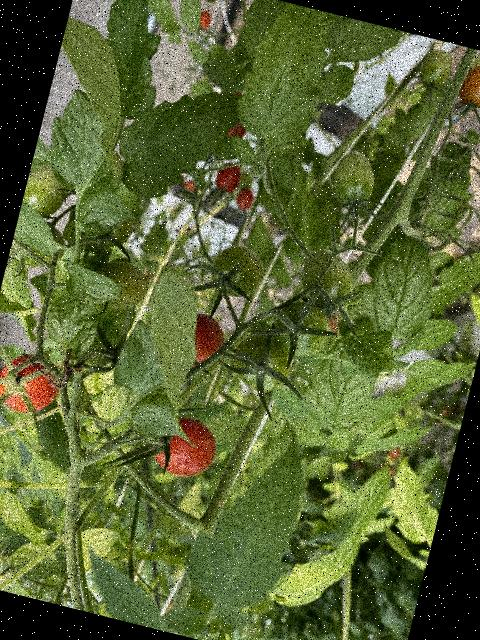l_fully_ripened: (146, 410, 224, 483), (0, 347, 67, 420), (184, 312, 229, 375)
l_green: (225, 324, 296, 397), (292, 244, 360, 315), (266, 295, 337, 362), (84, 254, 153, 315), (205, 239, 270, 302), (326, 148, 380, 211), (20, 159, 72, 221), (415, 45, 456, 92), (96, 212, 136, 251)
l_half_ripened: (456, 61, 480, 109)
